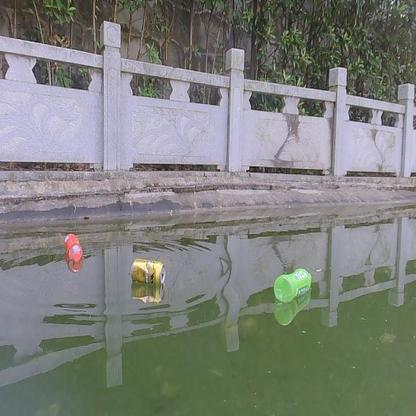can: (131, 260, 165, 284)
plastic bottle: (273, 269, 312, 301), (63, 232, 82, 264)
